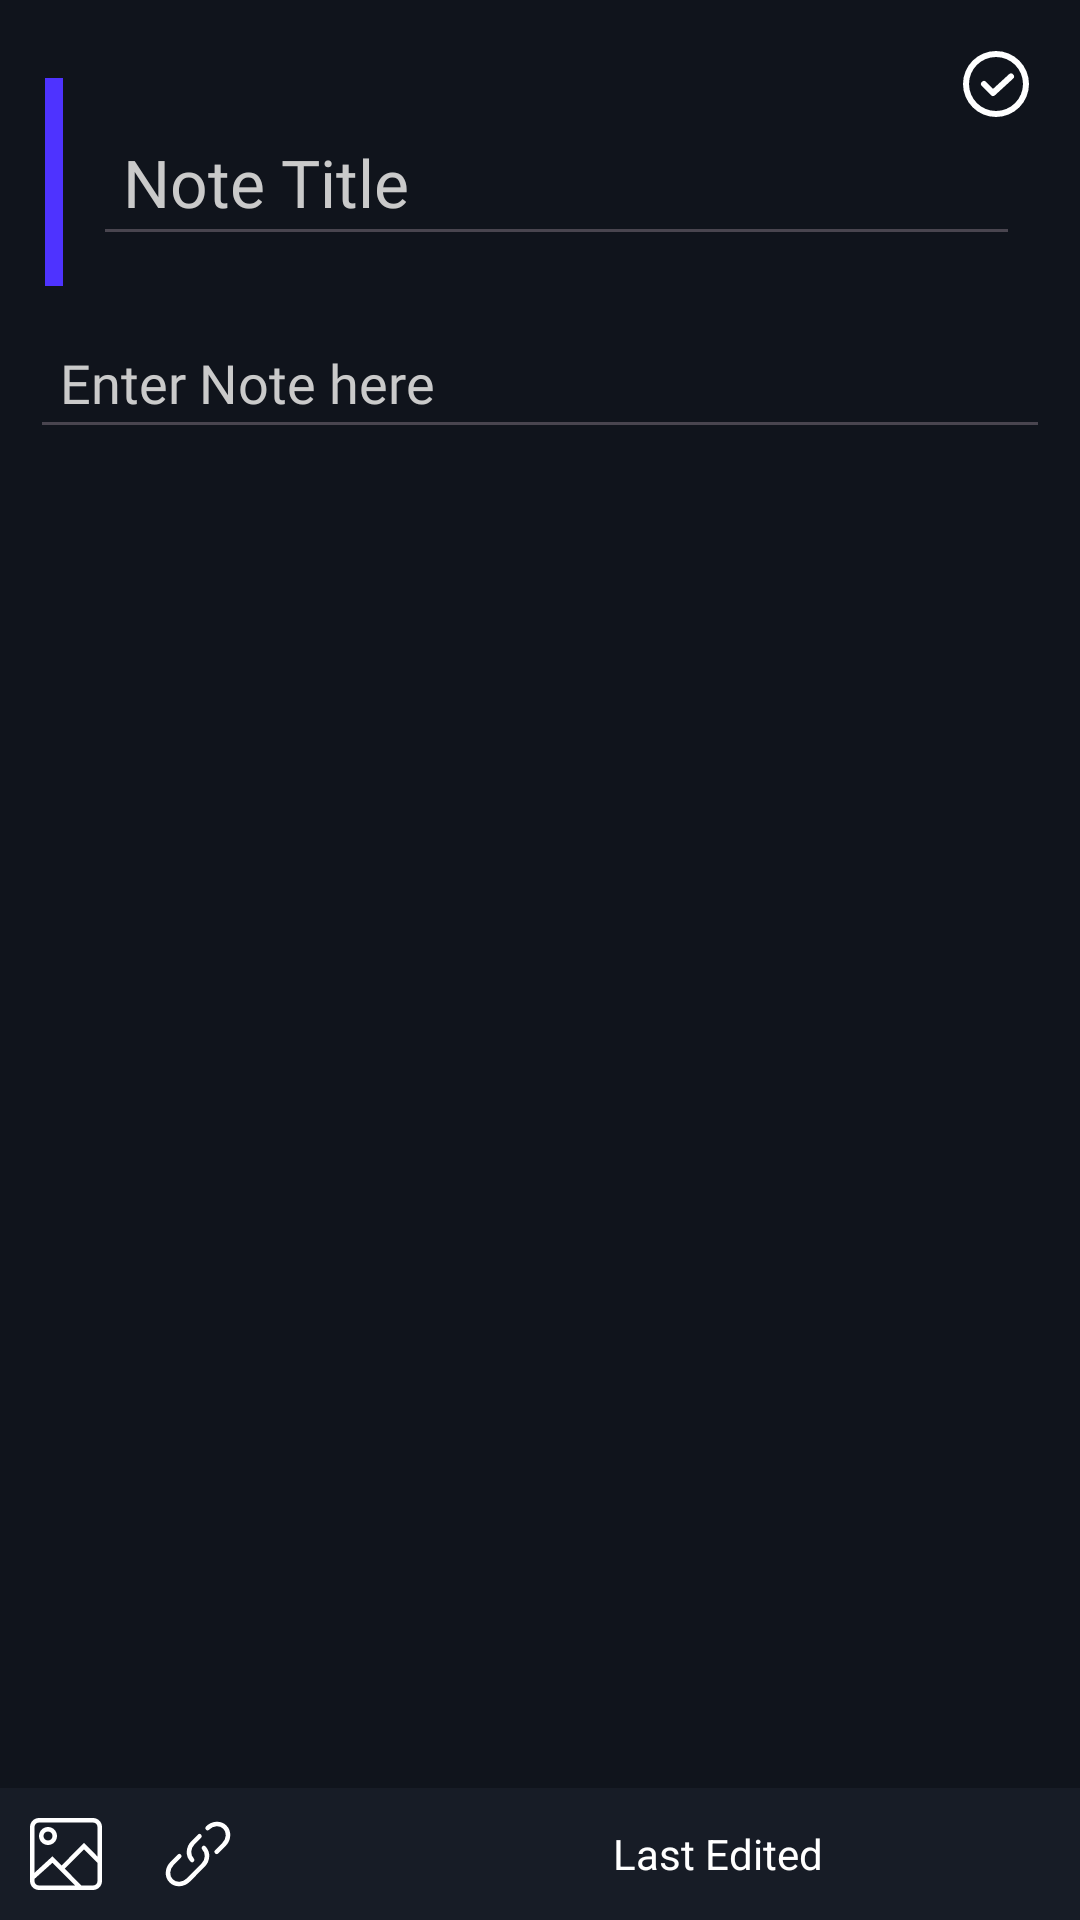

Point at icon controls on the screen. Image size 1080w x 1920h, points as (x,y).
Link Icon: (198,1854)
tick: (996,84)
